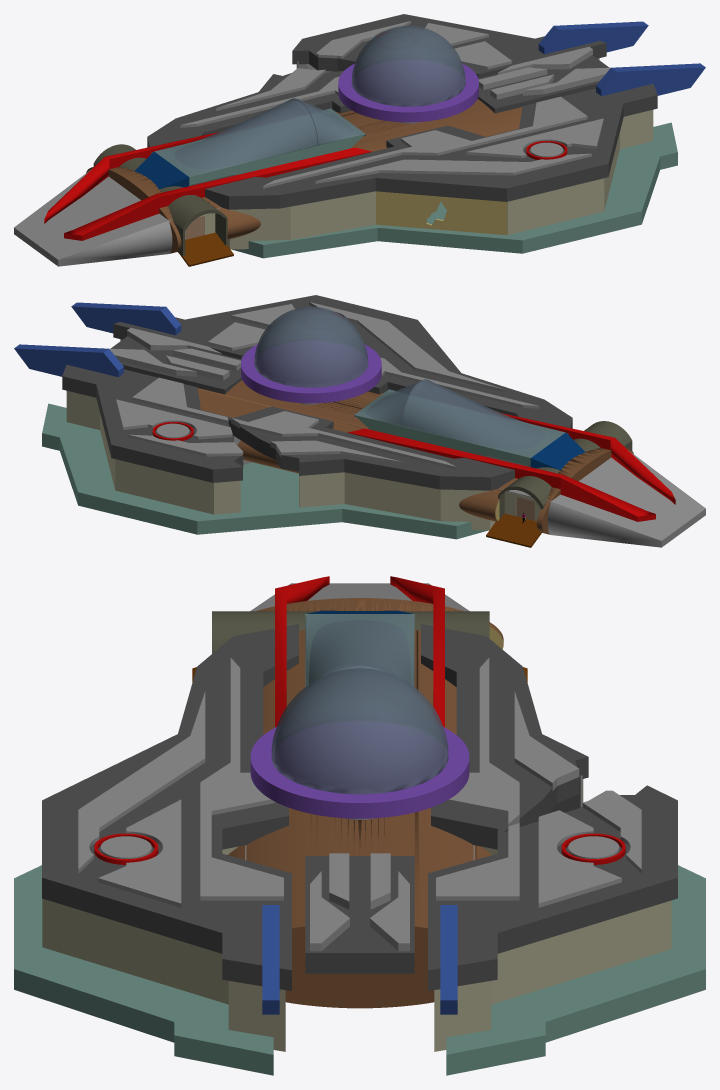
Rendered from Spaceship.FBX.
3 renders of one model, top to bottom at view 1: azimuth 30°, elevation 25°; view 2: azimuth 150°, elevation 25°; view 3: azimuth 270°, elevation 25°, orthographic. The views are drawn at different scales.
Parts seen in each view (by area): view 1: 81:1:8, 82:1:8, 94:1:8, 9:1:2D, 17:1:2B, 16:1:8, 2:1:2D, 10:1:2B, 5:1:2D, 45:1:1, 40:1:1, 33:1:8 (+26 smaller); view 2: 94:1:8, 95:1:8, 81:1:8, 9:1:2D, 17:1:2B, 16:1:8, 10:1:2B, 5:1:2D, 45:1:1, 2:1:2D, 4:1:2D, 36:1:1 (+28 smaller); view 3: 81:1:8, 94:1:8, 45:1:1, 17:1:2B, 16:1:8, 95:1:8, 82:1:8, 84:1:1, 37:1:1, 22:1:8, 33:1:8, 10:1:2B (+23 smaller).
Part boxes in pixels (<box>): 81:1:8: <box>191,83,657,209</box>; 82:1:8: <box>231,122,677,258</box>; 94:1:8: <box>147,14,606,153</box>; 9:1:2D: <box>154,108,365,185</box>; 17:1:2B: <box>351,25,465,106</box>; 16:1:8: <box>338,60,478,122</box>; 2:1:2D: <box>14,178,172,266</box>; 10:1:2B: <box>155,98,318,176</box>; 5:1:2D: <box>14,169,168,260</box>; 45:1:1: <box>86,99,522,253</box>; 40:1:1: <box>376,191,506,235</box>; 33:1:8: <box>263,96,587,188</box>; 94:1:8: <box>62,364,528,490</box>; 95:1:8: <box>42,403,488,539</box>; 81:1:8: <box>113,295,572,434</box>; 9:1:2D: <box>354,389,565,466</box>; 17:1:2B: <box>254,306,368,387</box>; 16:1:8: <box>241,341,381,403</box>; 10:1:2B: <box>401,379,564,457</box>; 5:1:2D: <box>547,463,698,547</box>; 45:1:1: <box>197,380,633,534</box>; 2:1:2D: <box>553,450,705,540</box>; 4:1:2D: <box>347,428,655,521</box>; 36:1:1: <box>115,459,214,514</box>; 81:1:8: <box>42,624,298,990</box>; 94:1:8: <box>421,624,677,990</box>; 45:1:1: <box>228,622,503,1008</box>; 17:1:2B: <box>271,668,448,794</box>; 16:1:8: <box>250,721,469,818</box>; 95:1:8: <box>446,865,705,1075</box>; 82:1:8: <box>14,865,273,1075</box>; 84:1:1: <box>42,899,228,1004</box>; 37:1:1: <box>491,900,671,1004</box>; 22:1:8: <box>305,856,414,973</box>; 33:1:8: <box>200,657,283,900</box>; 10:1:2B: <box>305,614,414,686</box>.
Bounding box in the file's own units: 3930 × 834 × 2373.
